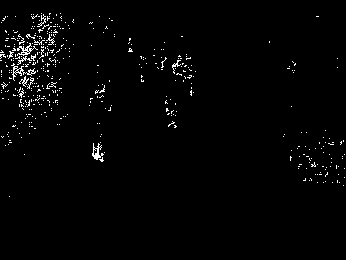person: (87, 82, 112, 163)
